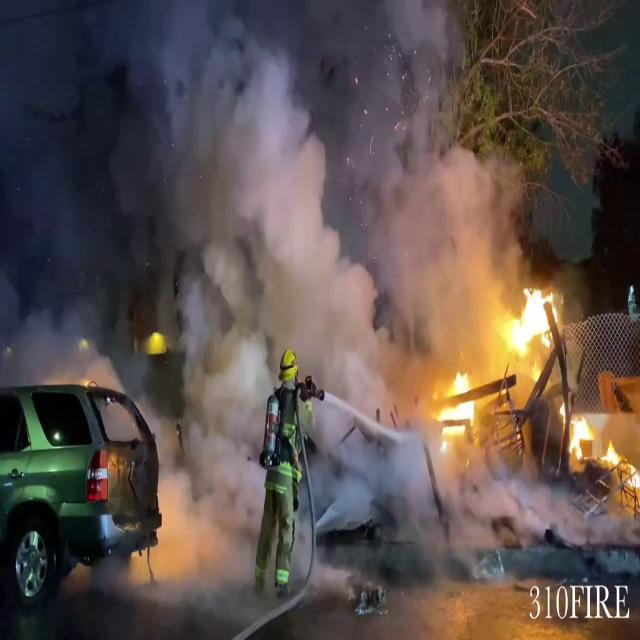Fire: (501, 278, 564, 362), (428, 362, 482, 448), (565, 408, 624, 468)
Smoke: (2, 0, 516, 382)
